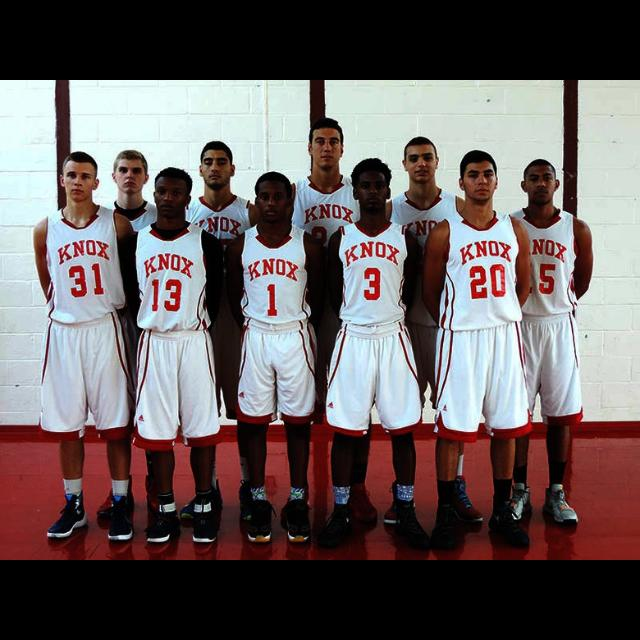head: (348, 159, 394, 213), (254, 170, 296, 226), (59, 152, 101, 204), (152, 168, 194, 220), (458, 150, 500, 200), (306, 118, 346, 170), (520, 158, 562, 206), (402, 136, 441, 184), (199, 142, 237, 190), (112, 150, 150, 192)
person: (272, 116, 388, 528), (422, 148, 536, 556), (313, 155, 425, 555), (28, 150, 140, 544), (378, 134, 488, 528), (171, 138, 281, 530), (225, 170, 328, 548), (131, 166, 231, 550), (87, 147, 185, 525), (498, 156, 596, 530)
